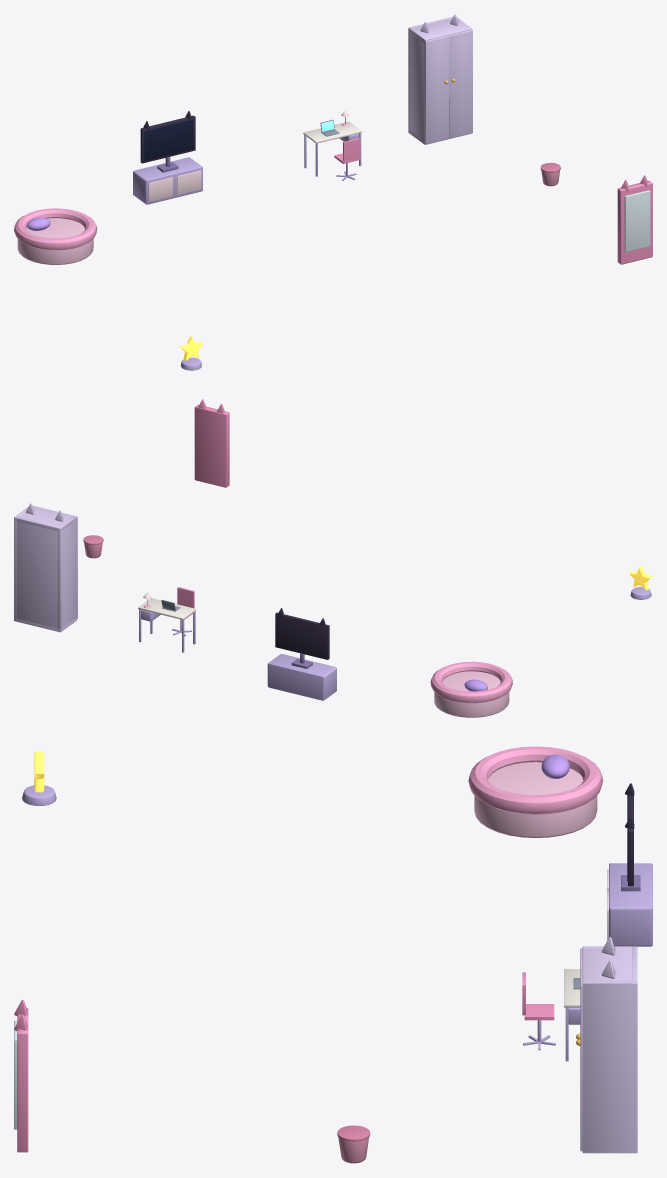
Rendered from decor-parents.glb.
The picture shows the model from 3 angles, top to bottom: view 1: azimuth 30°, elevation 25°; view 2: azimuth 150°, elevation 25°; view 3: azimuth 270°, elevation 25°; orthographic projection. The views are drawn at different scales.
Visible parts, largest first — view 1: decor-item-parents-bed-mesh, decor-item-parents-tv-mesh, decor-item-parents-mirror-mesh, decor-item-parents-wardrobe-mesh, part-door-left-mesh, part-door-right-mesh, decor-item-parents-desk-mesh, part-screen-mesh, decor-item-parents-lamp-mesh; view 2: decor-item-parents-wardrobe-mesh, decor-item-parents-tv-mesh, decor-item-parents-bed-mesh, decor-item-parents-mirror-mesh, decor-item-parents-desk-mesh, decor-item-parents-lamp-mesh; view 3: decor-item-parents-wardrobe-mesh, decor-item-parents-bed-mesh, decor-item-parents-tv-mesh, decor-item-parents-mirror-mesh, decor-item-parents-desk-mesh, decor-item-parents-plant-mesh, decor-item-parents-lamp-mesh.
Boxes of the visible parts, x1,y1,x2,y2 form: decor-item-parents-bed-mesh: (14,208,97,264); decor-item-parents-tv-mesh: (133,111,202,204); decor-item-parents-mirror-mesh: (617,175,652,264); decor-item-parents-wardrobe-mesh: (408,14,472,144); part-door-left-mesh: (424,35,449,144); part-door-right-mesh: (449,30,472,138); decor-item-parents-desk-mesh: (303,110,362,180); part-screen-mesh: (144,119,193,160); decor-item-parents-lamp-mesh: (179,336,203,370); decor-item-parents-wardrobe-mesh: (14,503,77,632); decor-item-parents-tv-mesh: (267,608,336,700); decor-item-parents-bed-mesh: (430,661,512,717); decor-item-parents-mirror-mesh: (194,399,229,487); decor-item-parents-desk-mesh: (138,587,196,652); decor-item-parents-lamp-mesh: (629,566,652,599); decor-item-parents-wardrobe-mesh: (582,937,637,1153); decor-item-parents-bed-mesh: (468,746,603,837); decor-item-parents-tv-mesh: (607,783,652,946); decor-item-parents-mirror-mesh: (14,999,28,1152); decor-item-parents-desk-mesh: (522,969,580,1061); decor-item-parents-plant-mesh: (337,1125,370,1163); decor-item-parents-lamp-mesh: (22,751,56,805).
Size of the model in its own units: 14.74 by 3.35 by 10.43.
